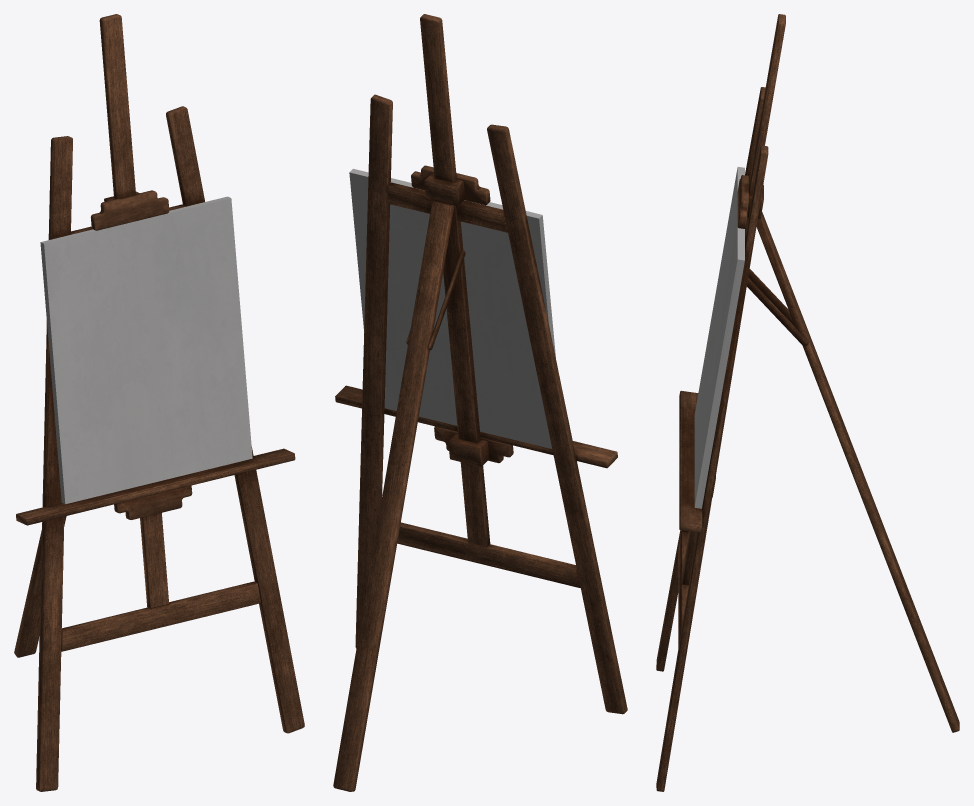
Rendered from easel_standee.glb.
The picture shows the model from 3 angles, left to right: view 1: azimuth 30°, elevation 25°; view 2: azimuth 150°, elevation 25°; view 3: azimuth 270°, elevation 25°; orthographic projection.
Parts seen in each view (by area): view 1: White board_0, Wood Stand_1, Support_2; view 2: Wood Stand_1, White board_0, Support_2; view 3: Wood Stand_1, White board_0, Support_2.
Boxes of the visible parts, x1=… form: White board_0: x1=40, y1=196, x2=252, y2=504; Wood Stand_1: x1=14, y1=14, x2=304, y2=791; Support_2: x1=90, y1=190, x2=192, y2=519; Wood Stand_1: x1=333, y1=14, x2=627, y2=791; White board_0: x1=349, y1=168, x2=555, y2=448; Support_2: x1=411, y1=165, x2=513, y2=463; Wood Stand_1: x1=656, y1=14, x2=959, y2=791; White board_0: x1=694, y1=167, x2=744, y2=508; Support_2: x1=737, y1=175, x2=748, y2=228.
Size of the model in its own units: 5.73 by 14.28 by 5.52.
3 materials, 3 textured.
